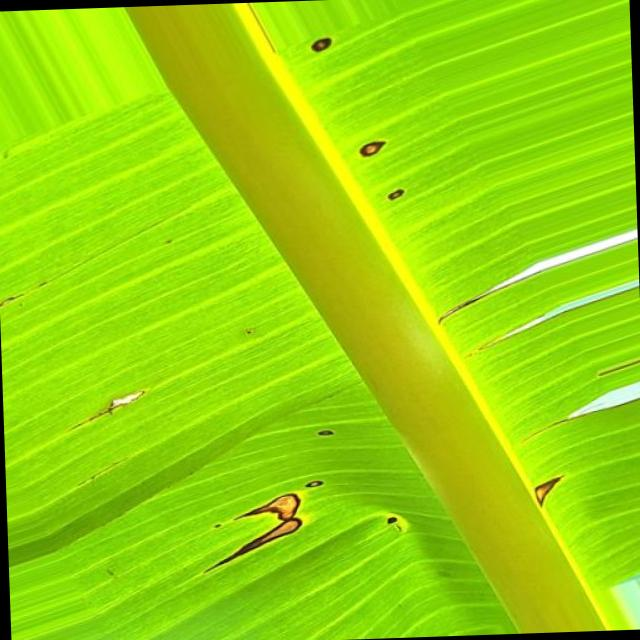Banana_Black_Sigatoka: (306, 15, 452, 225), (198, 481, 359, 584), (508, 438, 594, 545)
